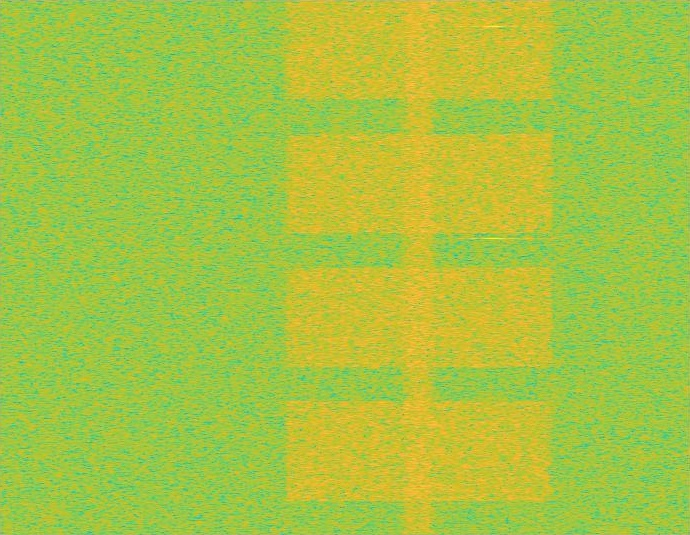5G: (281, 0, 557, 534)
DSSS: (400, 0, 438, 534)
Radar: (487, 0, 501, 534)
